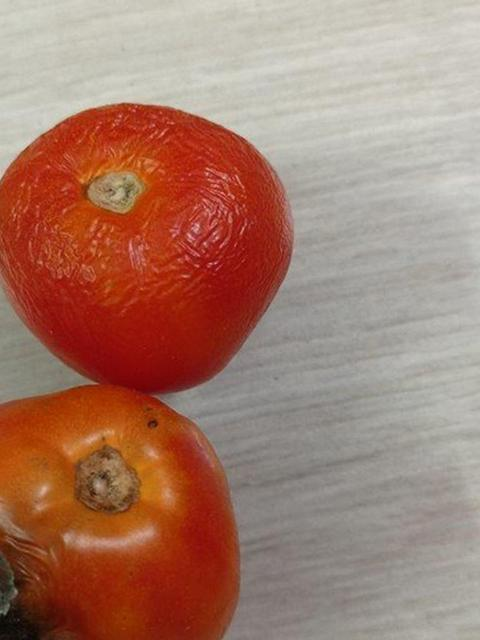defect: (0, 103, 332, 403)
